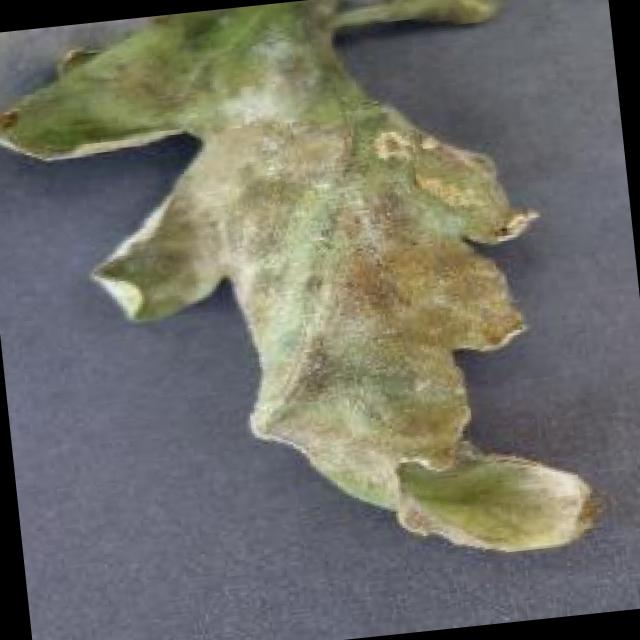Tomato_Late_Blight: (0, 0, 614, 605)
